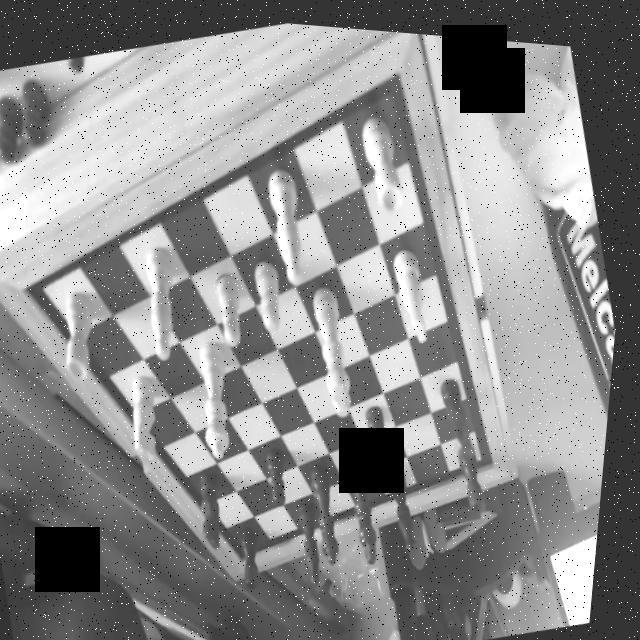chess-table-corners: (16, 270, 48, 316), (381, 51, 416, 90), (488, 442, 510, 472), (241, 546, 261, 570)
